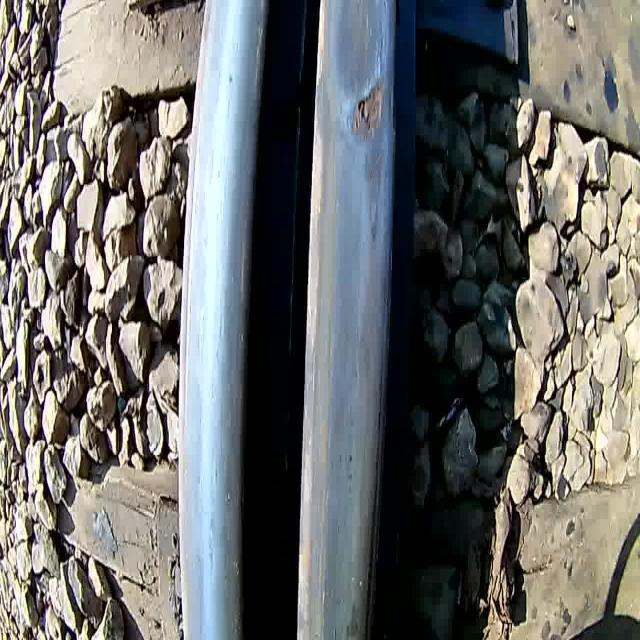Flakings: (172, 0, 282, 640)
Spallings: (329, 79, 412, 151)
Squats: (306, 0, 422, 101), (347, 124, 401, 264)
